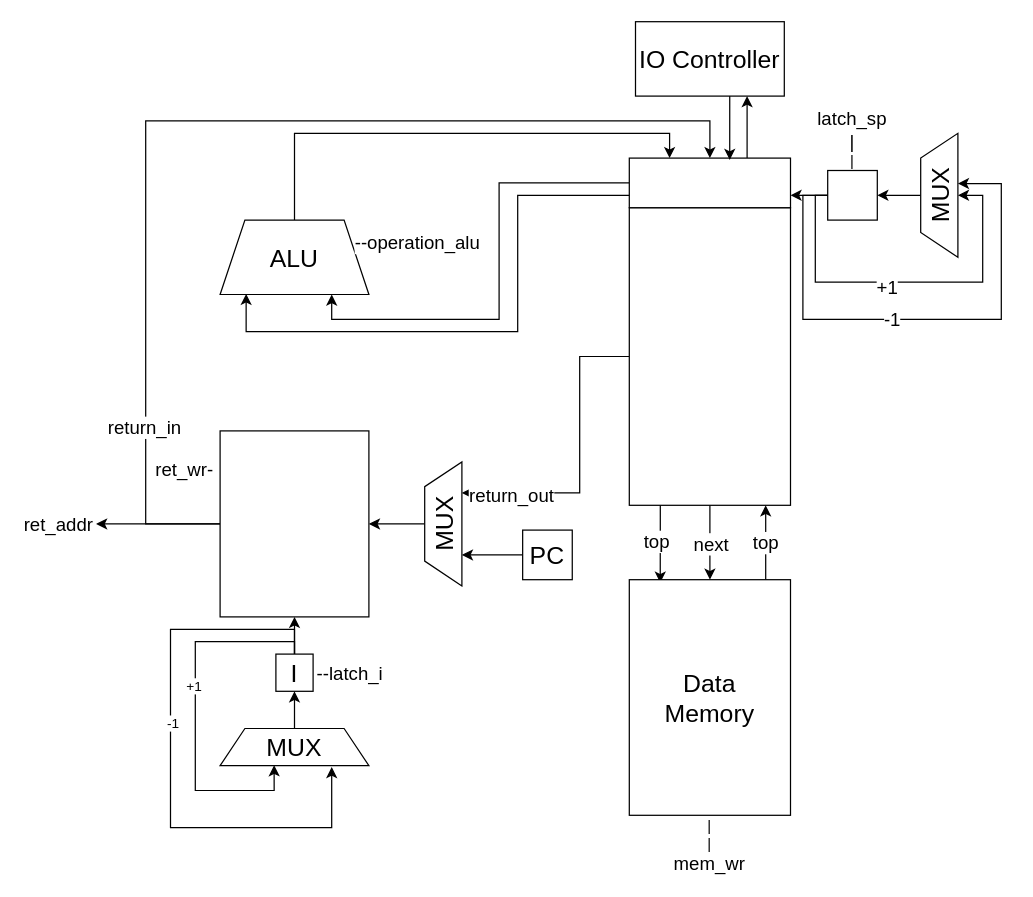
Some shapes in this 1033 by 897 pixel diagram are drawn without their labels. Here are the shapes that lost their labels. From the top down, the centre of each, then its label:
At point 709,182: "TOS".
At point 851,194: "SP".
At point 709,355: "Data Stack".
At point 294,523: "Return Stack".
